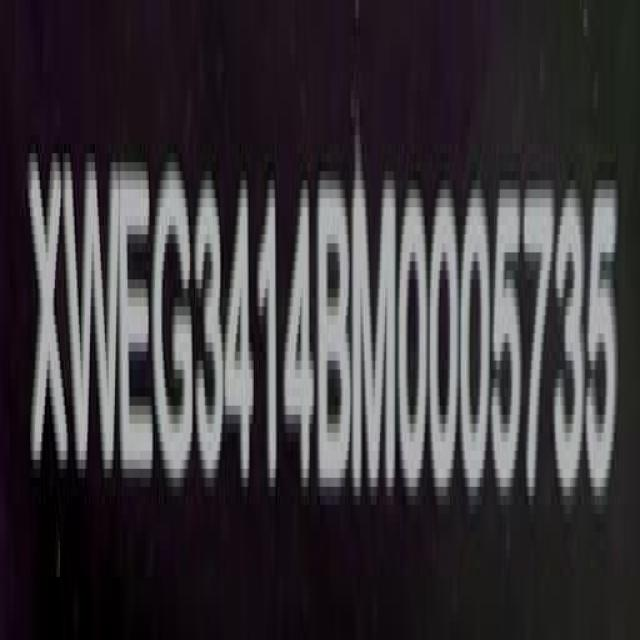0: (429, 172, 464, 506), (398, 170, 431, 504), (462, 174, 492, 507)
1: (259, 162, 281, 502)
3: (553, 178, 586, 504), (196, 168, 227, 497)
4: (284, 165, 318, 506), (223, 166, 256, 502)
5: (585, 172, 621, 506), (493, 167, 527, 510)
7: (522, 168, 554, 510)
B: (317, 167, 352, 507)
E: (120, 154, 158, 492)
G: (153, 152, 195, 491)
M: (353, 164, 398, 507)
W: (66, 140, 120, 490)
X: (27, 142, 73, 495)
